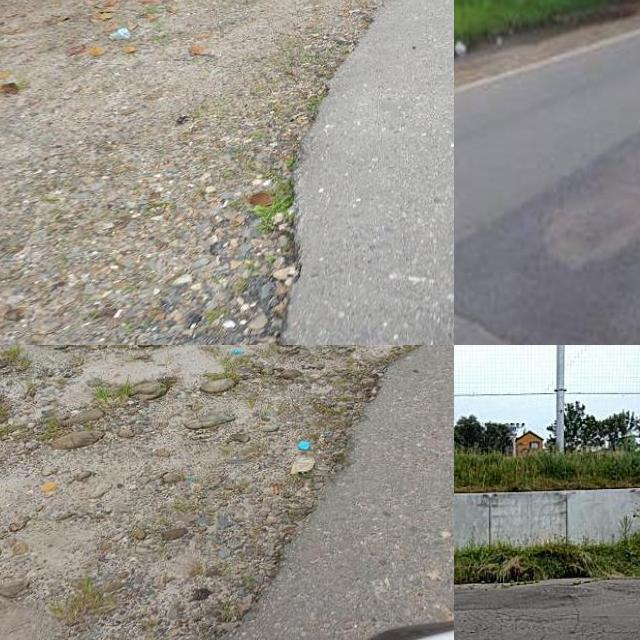Pinggir: (220, 0, 418, 345), (212, 345, 432, 624)
Sambungan: (454, 142, 640, 345)
